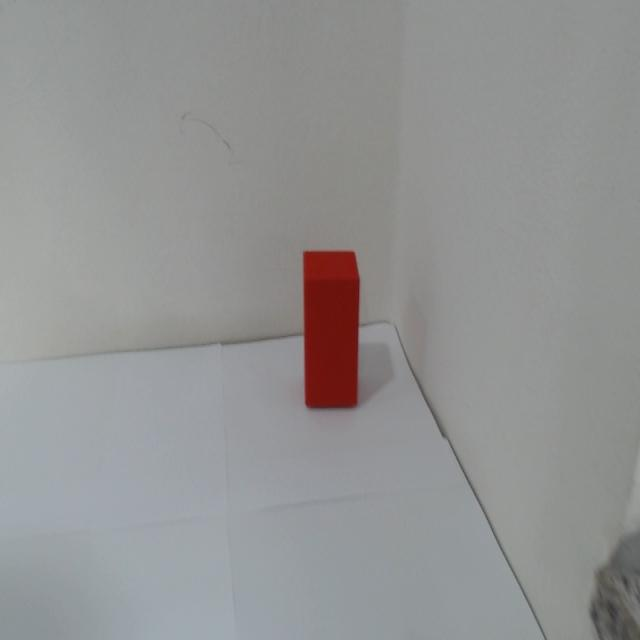cube: (300, 248, 363, 410)
